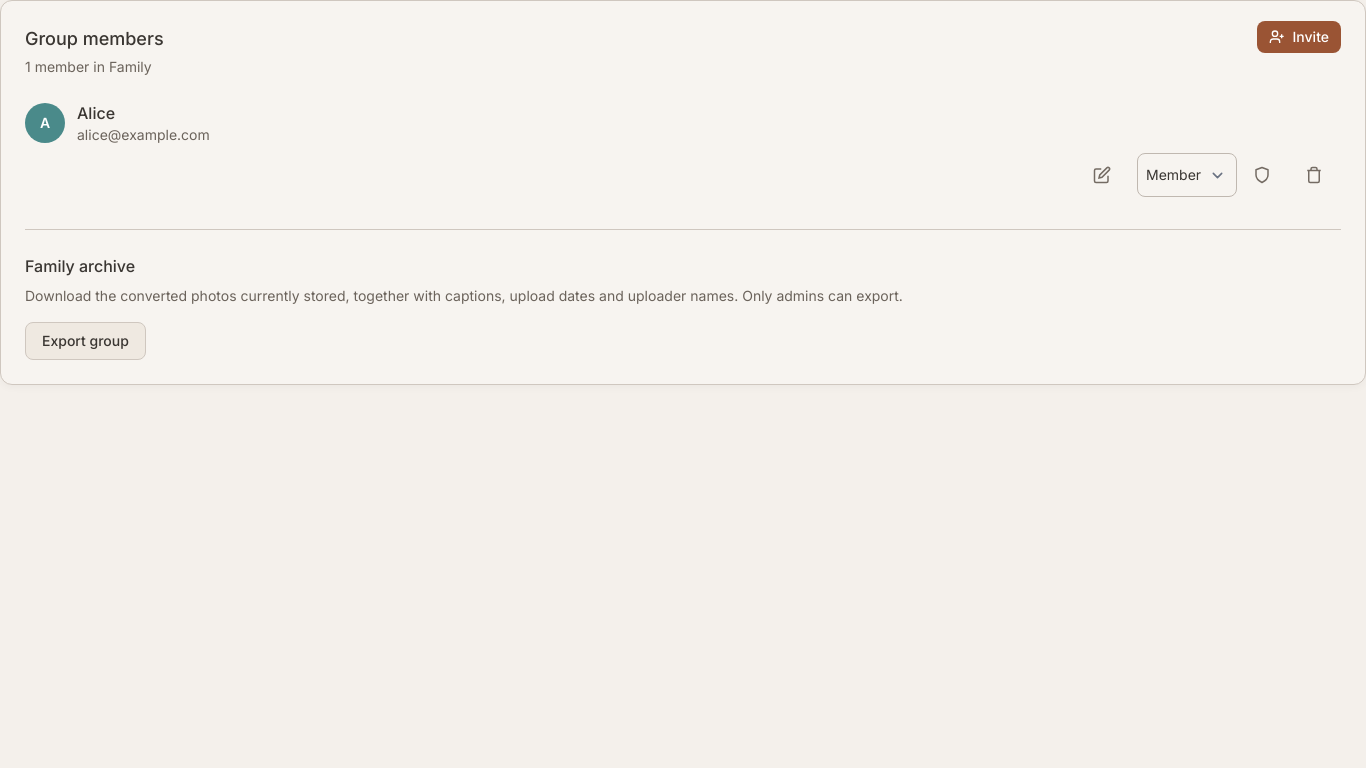
Test case: MembersList display names › surfaces a rejected change and leaves the row as it was
Expected: the text "Alice" is shown, x1=77 y1=103 x2=115 y2=123
Click the button named "Set Alice's display name in Family" at (1107, 175), box x1=1085 y1=153 x2=1129 y2=197
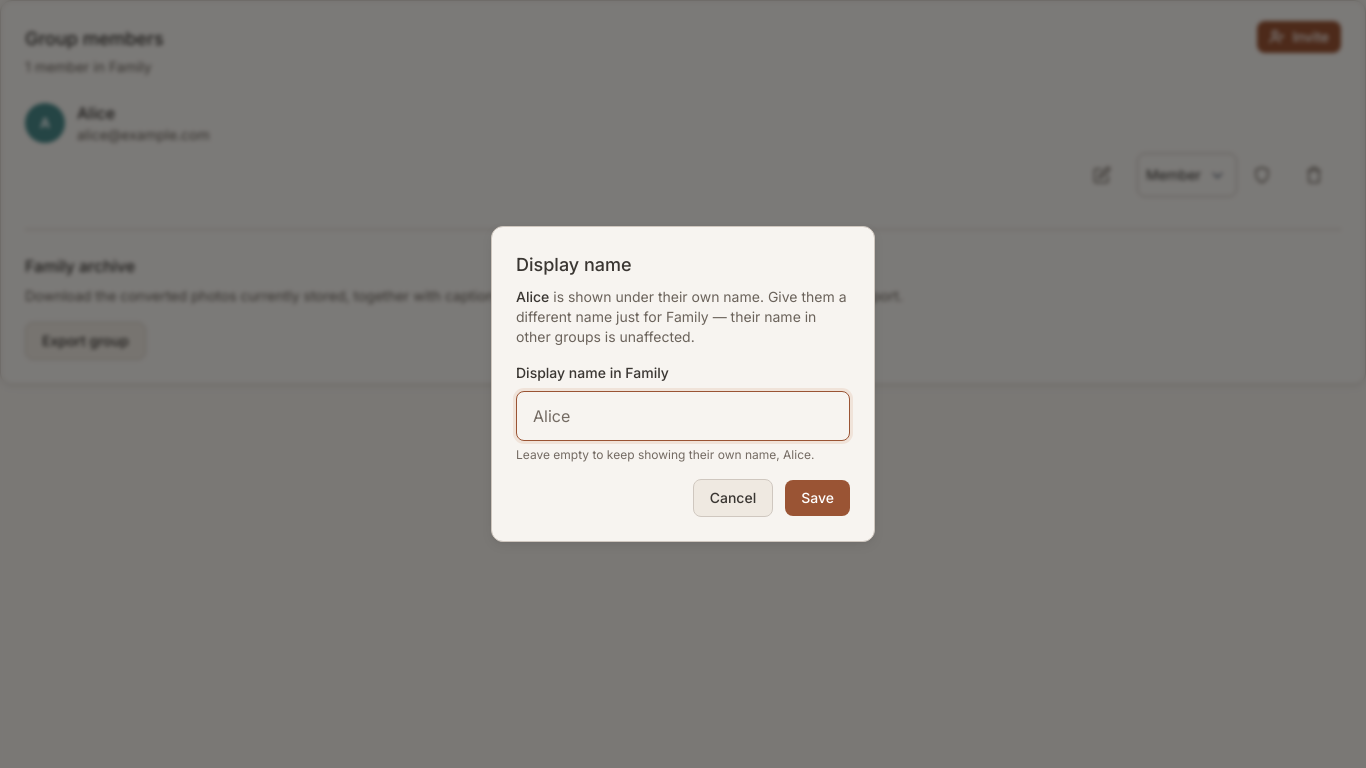
Type "Ali" into the field labelled "Display name in Family" at (683, 416), box x1=516 y1=391 x2=850 y2=441
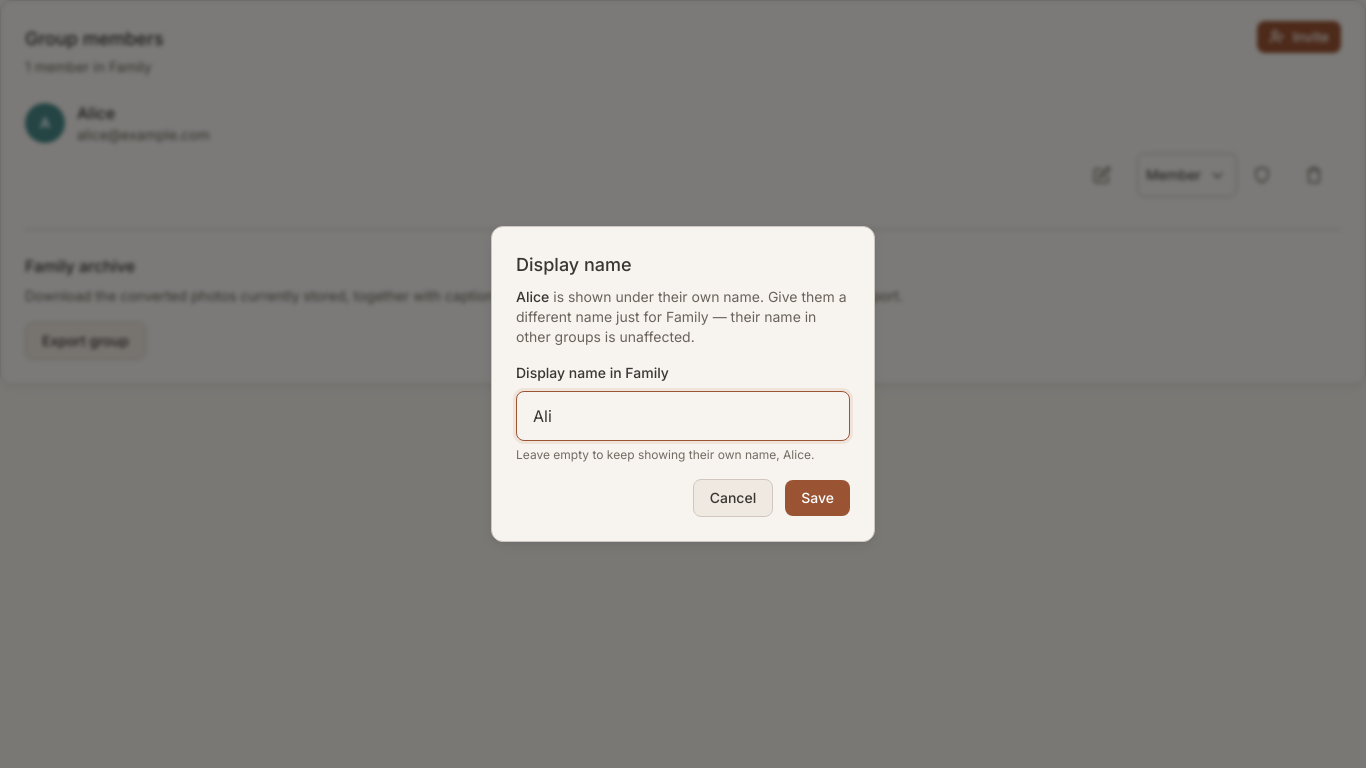
Click the button "Save" at (818, 498), box x1=785 y1=480 x2=850 y2=516
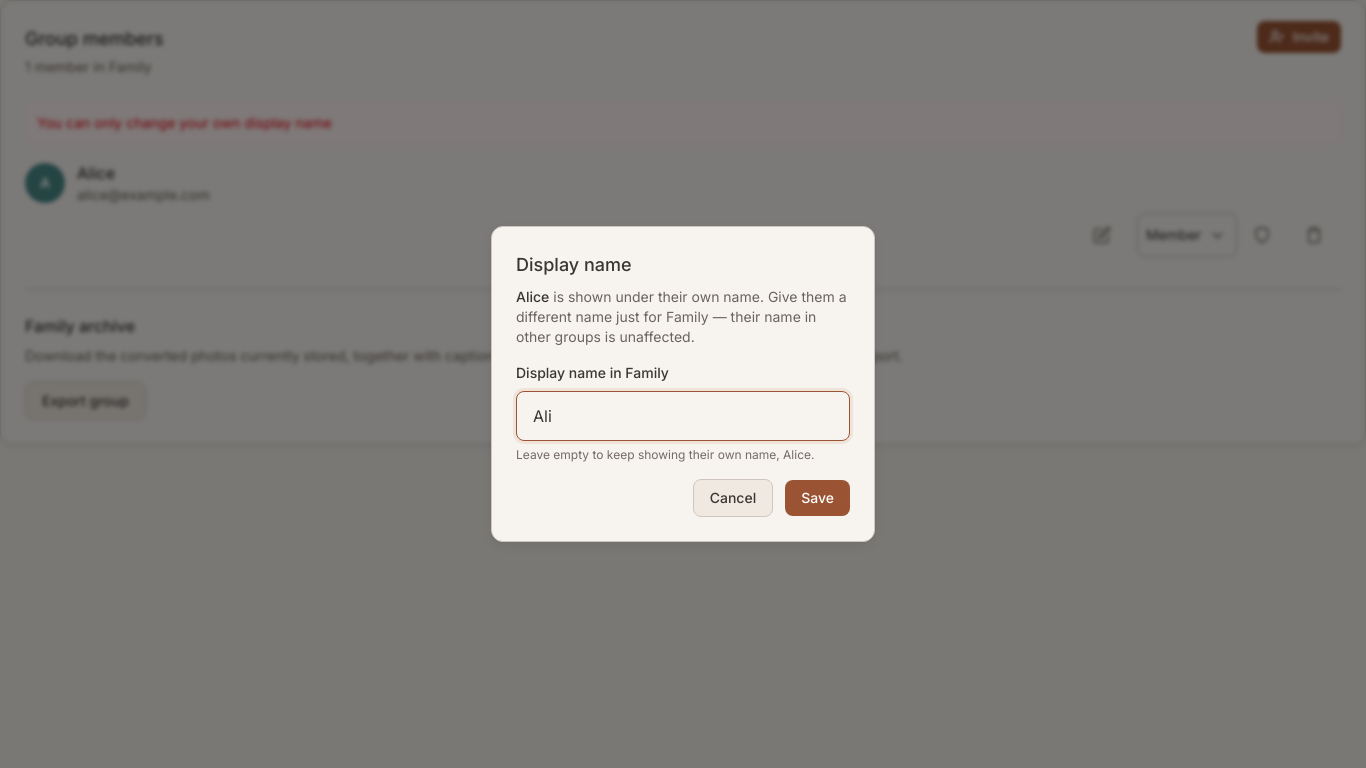
Expected: the button named "Set Alice's display name in Family" is shown, x1=1085 y1=213 x2=1129 y2=257
Expected: the message reads "You can only change your own display name", x1=37 y1=114 x2=332 y2=131
